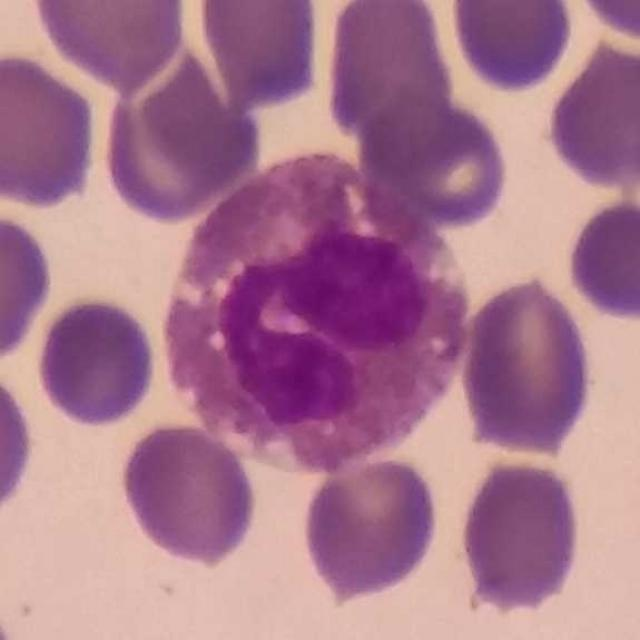Eosinophil: (161, 152, 463, 472)
RBC: (96, 43, 266, 227), (454, 272, 599, 458), (354, 90, 514, 233), (297, 451, 445, 604), (116, 418, 262, 569), (454, 455, 586, 618), (320, 0, 458, 149), (32, 292, 162, 431), (0, 46, 104, 214), (542, 33, 640, 196), (26, 0, 192, 90), (194, 0, 327, 111), (445, 0, 579, 97), (562, 194, 640, 325), (0, 204, 57, 368), (0, 363, 39, 530), (568, 0, 639, 46)
